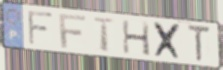F: (57, 13, 88, 50), (26, 9, 54, 47)
H: (121, 19, 153, 58)
T: (186, 23, 212, 64), (91, 16, 117, 54)
X: (152, 20, 184, 62)
